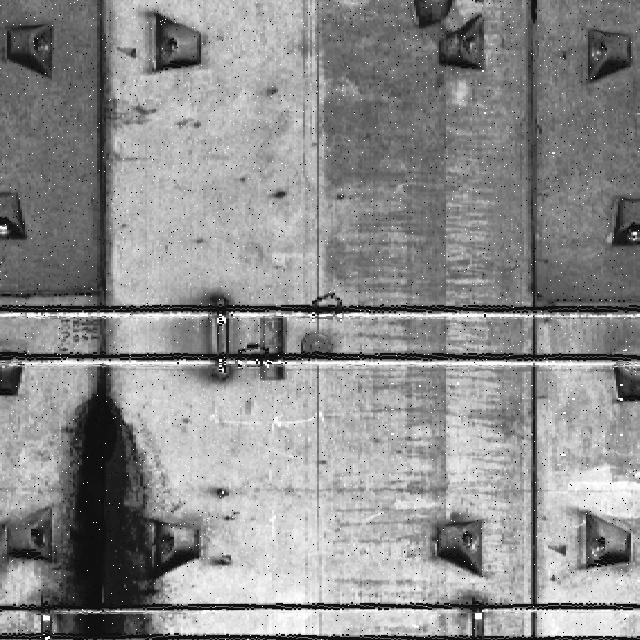leakage: (55, 372, 158, 638)
